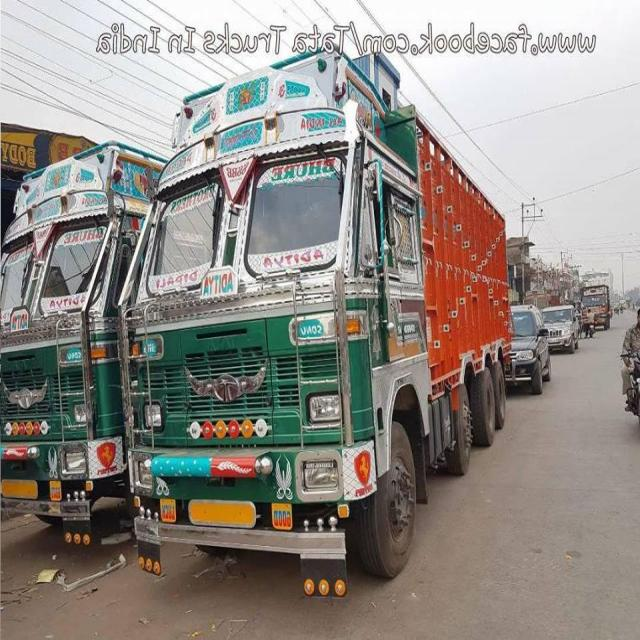car: (506, 297, 556, 394), (547, 299, 582, 357)
truck: (123, 51, 512, 588), (0, 106, 134, 556), (582, 281, 611, 335)
